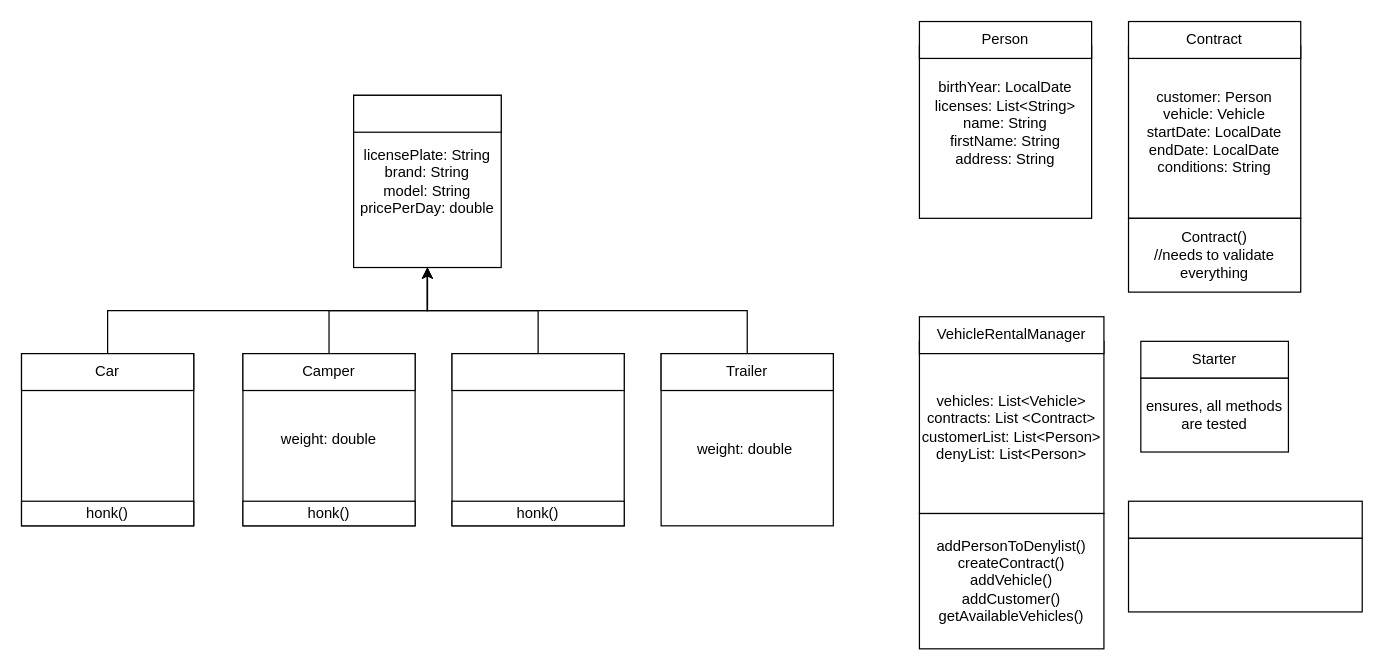
This 1384x670 diagram has some shape labels left out. The shapes that lost their labels are listed below. From the top down, each one's box as (x1, y1, x2, y2) in pixels, then its label:
(352, 94, 501, 132): Vehicle
(451, 352, 624, 391): Truck
(20, 352, 194, 526): isLuxuryCar: boolean
(451, 352, 624, 526): loadVolume: double
(1127, 500, 1362, 538): Exceptions
(1127, 537, 1362, 612): MinorAgeException LeaseLengthCollisionException DenylistedPersonException
